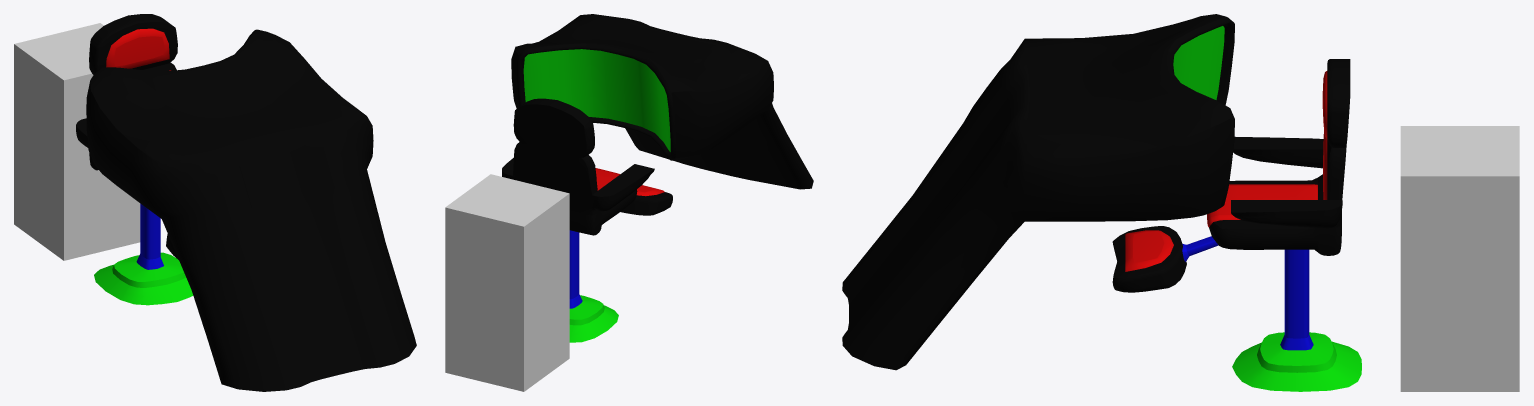
Rendered from Gouda_Chair.glb.
The picture shows the model from 3 angles, left to right: view 1: azimuth 30°, elevation 25°; view 2: azimuth 150°, elevation 25°; view 3: azimuth 270°, elevation 25°; orthographic projection. The views are drawn at different scales.
Parts seen in each view (by area): view 1: ControlPanel, Cube-noimp, Chair; view 2: ControlPanel, Cube-noimp, Chair; view 3: ControlPanel, Cube-noimp, Chair.
Part boxes in pixels (box(x1,y1,x2,y2)): ControlPanel: box(86, 29, 416, 391); Cube-noimp: box(14, 23, 140, 260); Chair: box(76, 14, 193, 305); ControlPanel: box(511, 14, 813, 189); Cube-noimp: box(445, 174, 569, 391); Chair: box(502, 98, 672, 342); ControlPanel: box(842, 14, 1234, 370); Cube-noimp: box(1400, 126, 1519, 391); Chair: box(1112, 59, 1361, 391).
Bounding box in the file's own units: 2.53 × 2.84 × 5.69.
